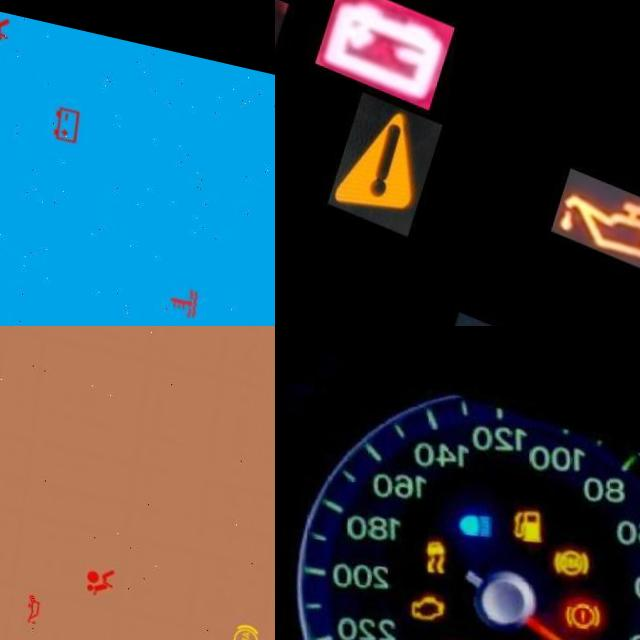Central Warning lamp: (333, 74, 448, 223)
Low fuel level: (514, 483, 561, 535)
